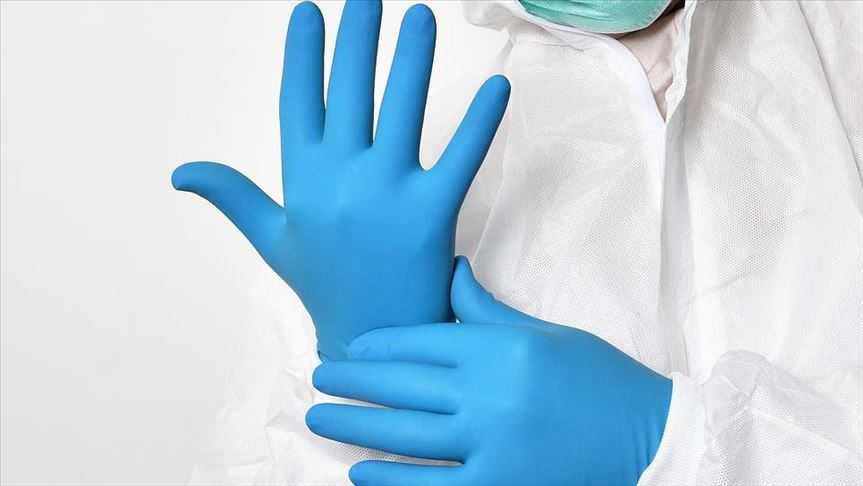Gloves: (167, 1, 516, 352), (291, 273, 684, 484)
